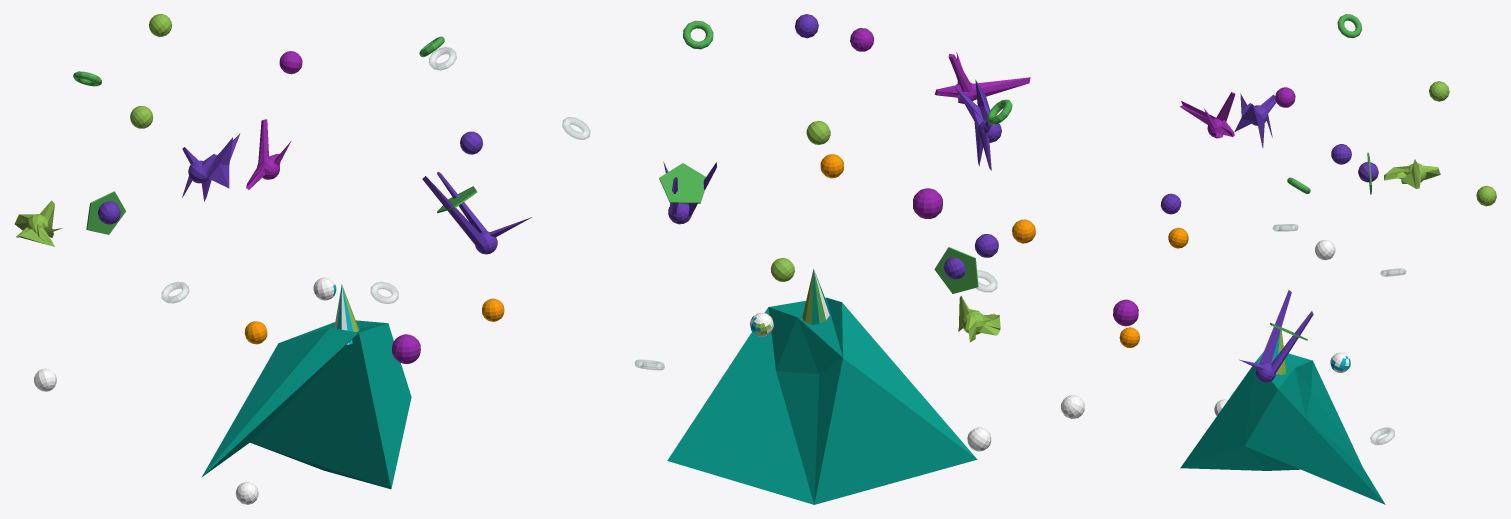
File: model-triangulated.obj
The picture shows the model from 3 angles, left to right: view 1: azimuth 30°, elevation 25°; view 2: azimuth 150°, elevation 25°; view 3: azimuth 270°, elevation 25°; orthographic projection. The views are drawn at different scales.
Visible parts, largest first — view 1: group1202532644, group1524745088, group260475551, group504974084, group642981759, group1840595518, group2013873923, group289806415; view 2: group1202532644, group260475551, group642981759, group40877902, group1840595518, group504974084, group289806415, group2013873923, group1524745088; view 3: group1202532644, group1524745088, group642981759, group260475551, group504974084, group2013873923.
Boxes of the visible parts, <box> form: group1202532644: <box>201,320,411,489</box>; group1524745088: <box>422,172,531,254</box>; group260475551: <box>182,133,240,201</box>; group504974084: <box>14,200,62,246</box>; group642981759: <box>246,119,291,189</box>; group1840595518: <box>86,191,125,234</box>; group2013873923: <box>392,334,420,363</box>; group289806415: <box>334,284,359,344</box>; group1202532644: <box>667,297,977,504</box>; group260475551: <box>954,79,1001,170</box>; group642981759: <box>934,52,1030,103</box>; group40877902: <box>659,163,705,203</box>; group1840595518: <box>934,247,978,293</box>; group504974084: <box>958,295,1000,342</box>; group289806415: <box>802,269,829,324</box>; group2013873923: <box>913,188,942,218</box>; group1524745088: <box>663,161,716,224</box>; group1202532644: <box>1180,352,1385,504</box>; group1524745088: <box>1239,290,1313,382</box>; group642981759: <box>1180,92,1235,138</box>; group260475551: <box>1234,93,1276,147</box>; group504974084: <box>1384,159,1440,188</box>; group2013873923: <box>1113,299,1138,326</box>.
Size of the model in its own units: 1.59 by 1.4 by 1.29.
